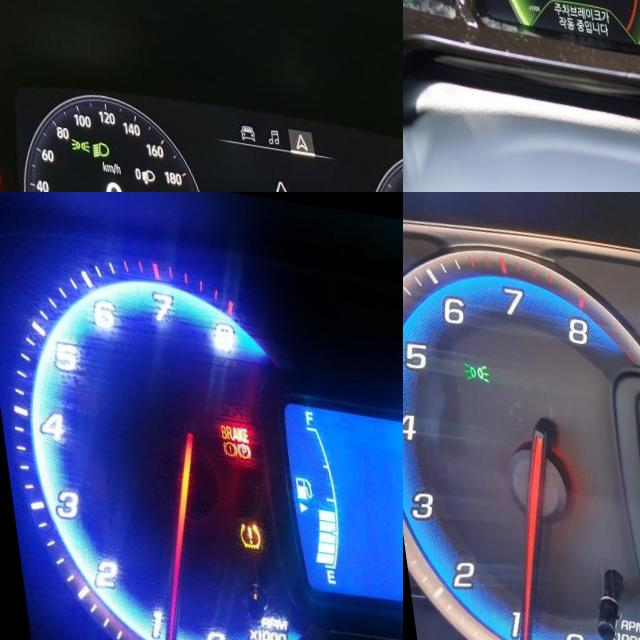Low beam: (82, 132, 102, 154)
SideLamp: (454, 356, 481, 379), (62, 130, 82, 149)
